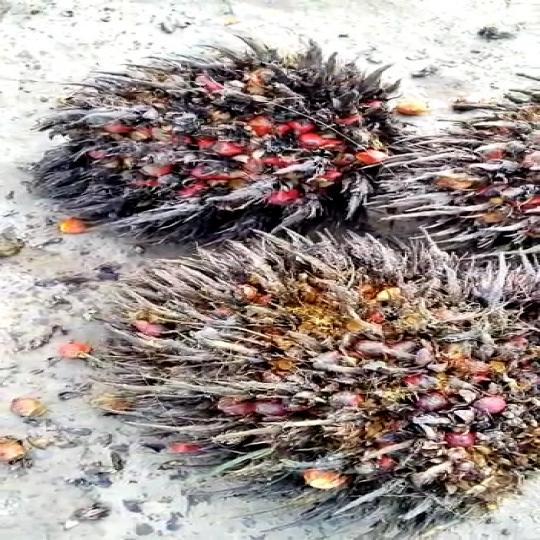terlalu masak: (74, 228, 540, 532), (29, 51, 446, 222)
